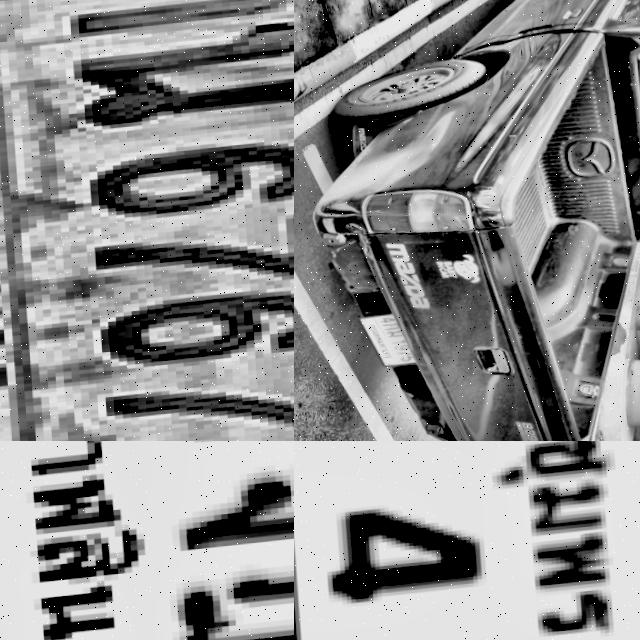license-plate: (0, 0, 294, 441), (294, 441, 640, 640), (0, 441, 294, 640), (350, 313, 422, 378)
